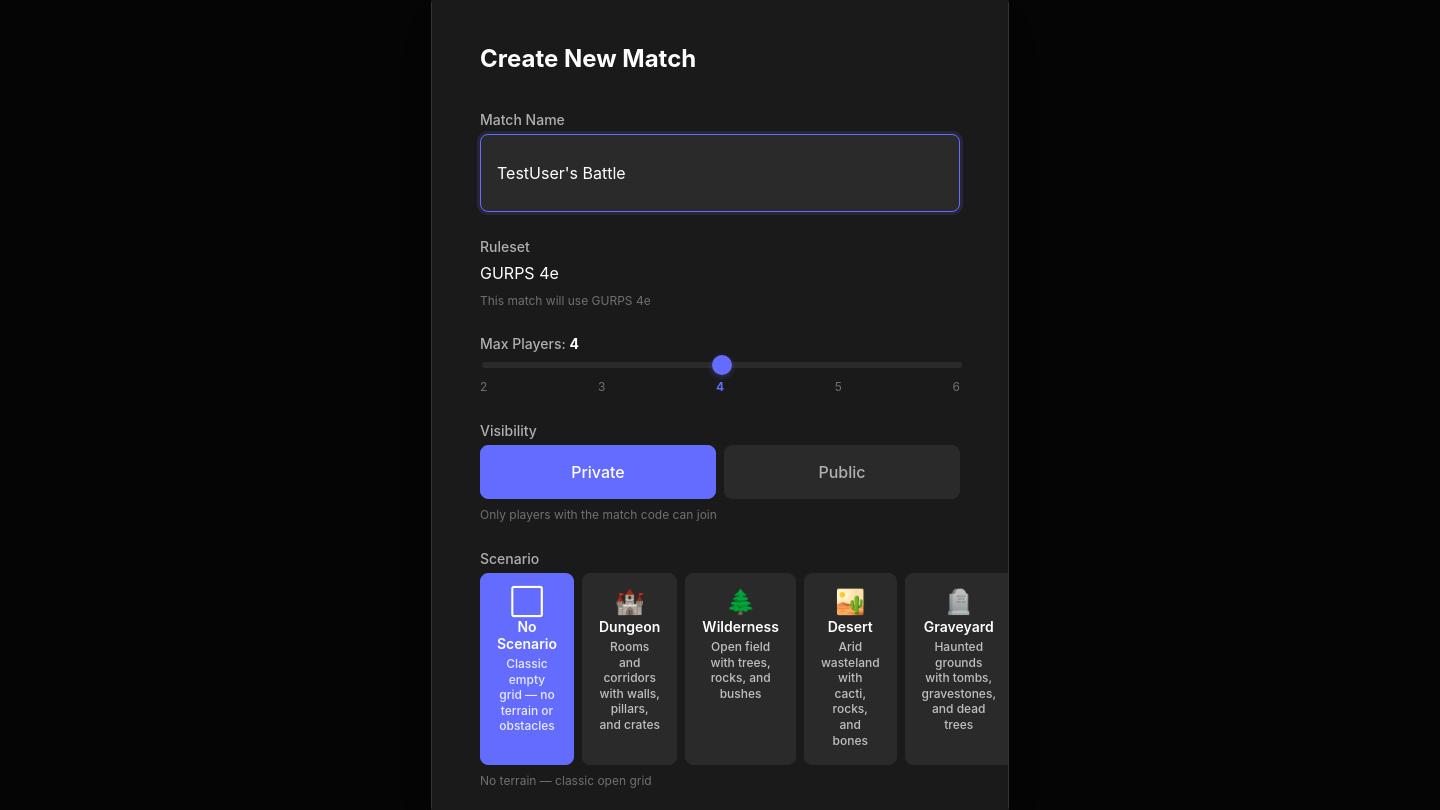
Test: CreateMatchDialog › Create Match button is disabled when name is empty
Clear the field labelled "Match Name" at (720, 172), box [480,134,960,212]
(page scrolled)
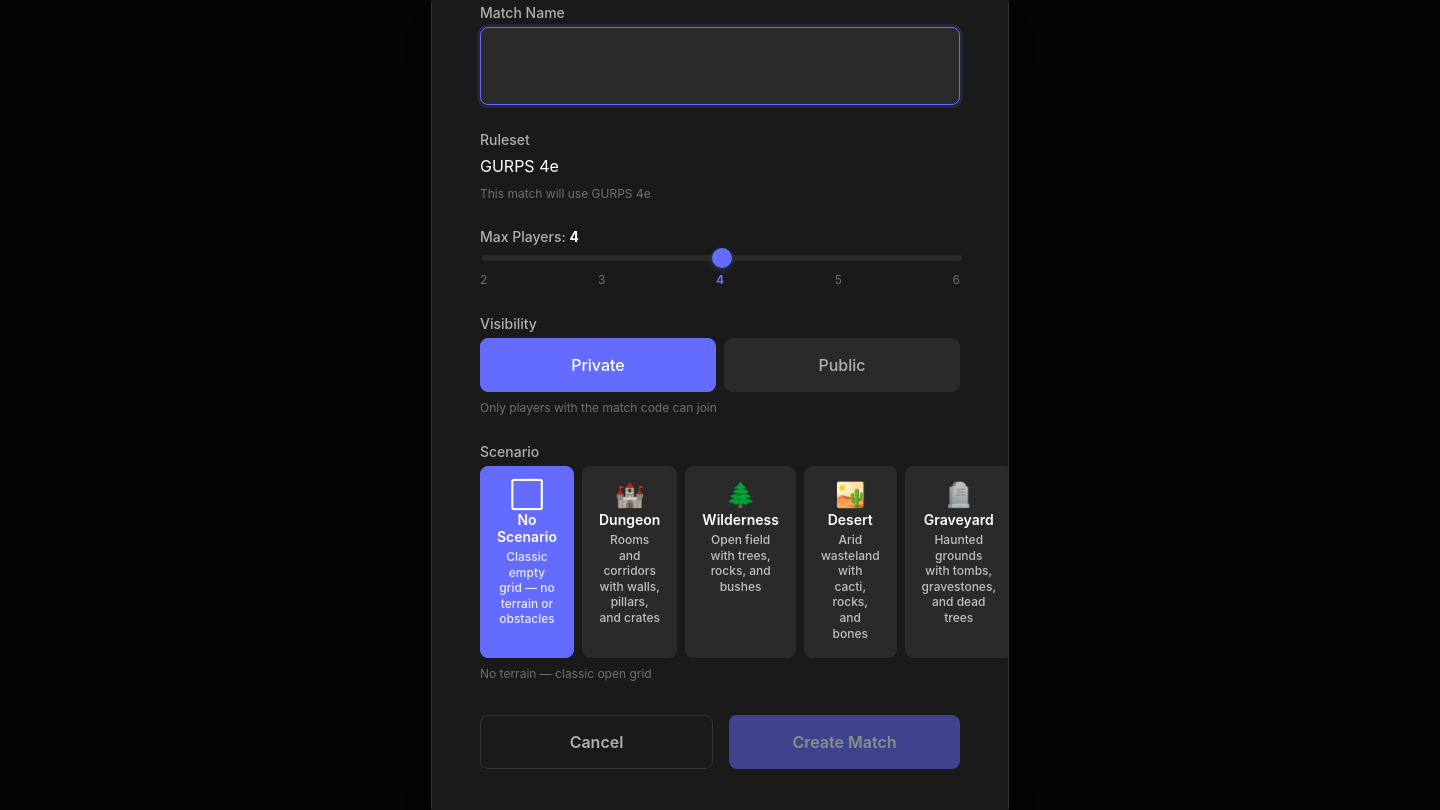
expect the button "Create Match" is disabled: met, box [729,715,960,769]
